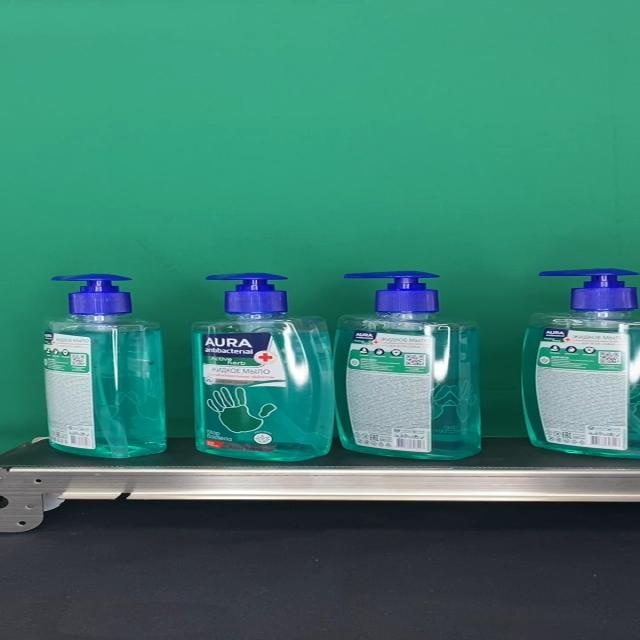Bottle: (332, 271, 482, 460), (190, 272, 334, 460), (42, 273, 166, 458), (520, 268, 640, 458)
Cap: (538, 268, 638, 312), (342, 271, 442, 313), (205, 273, 291, 314), (51, 273, 133, 314)
